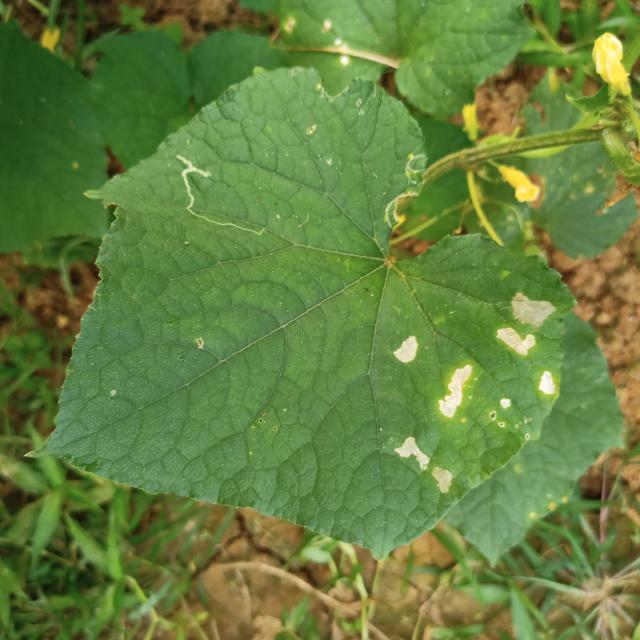disease_cucumber: (494, 291, 572, 403), (433, 359, 517, 434), (391, 431, 461, 502), (390, 331, 424, 371)
